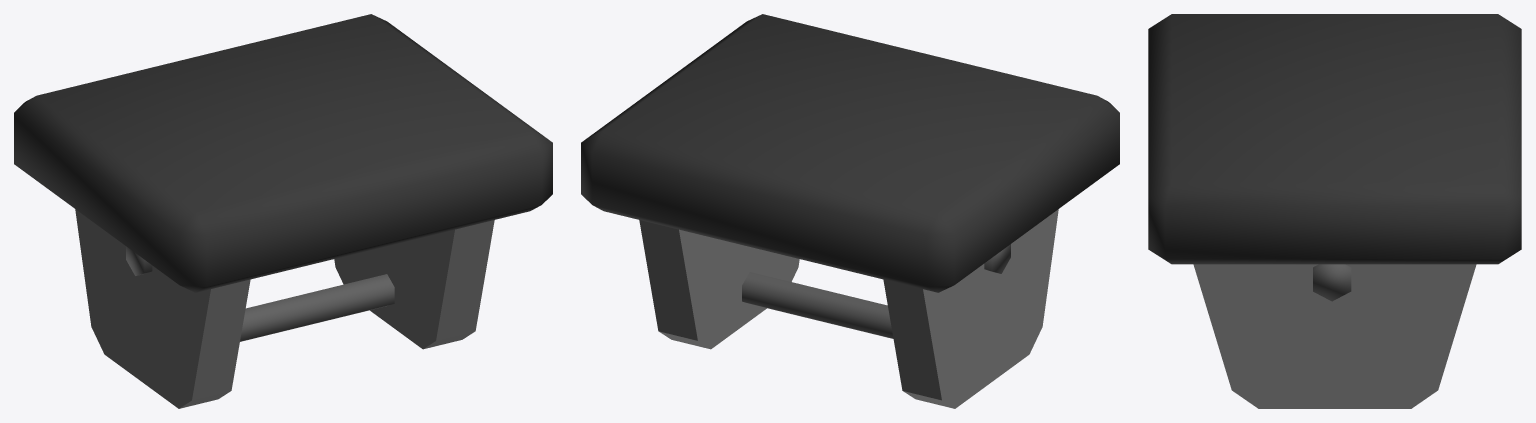
The model's file is stationary-rowing-machine-seat.glb.
3 renders of one model, left to right at view 1: azimuth 30°, elevation 25°; view 2: azimuth 150°, elevation 25°; view 3: azimuth 270°, elevation 25°, orthographic. The views are drawn at different scales.
Parts seen in each view (by area): view 1: Stationary_Rowing_Machine_Seat; view 2: Stationary_Rowing_Machine_Seat; view 3: Stationary_Rowing_Machine_Seat.
Part boxes in pixels (bbox=[...]): Stationary_Rowing_Machine_Seat: bbox=[14, 14, 552, 408]; Stationary_Rowing_Machine_Seat: bbox=[581, 14, 1119, 408]; Stationary_Rowing_Machine_Seat: bbox=[1148, 14, 1521, 408].
Bounding box in the file's own units: 48.64 × 29.14 × 41.07.
1 material, 1 textured.
